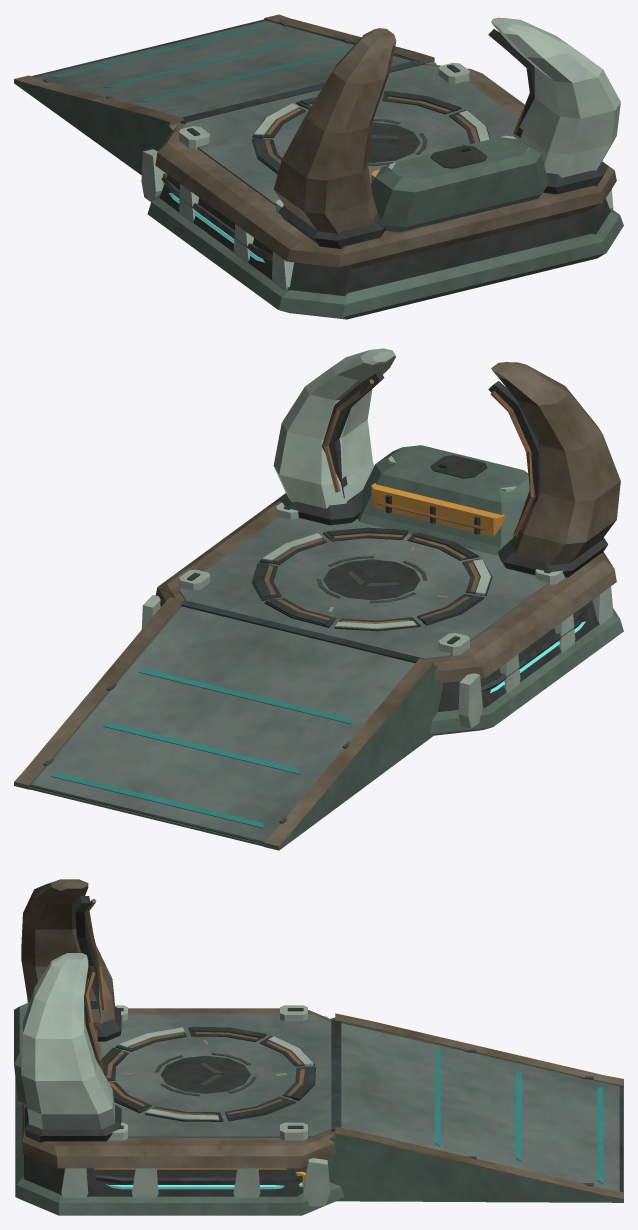
Rendered from NR01_Purifier_LOD3.obj.
3 views of the same model, one above another, from view 1: azimuth 30°, elevation 25°; view 2: azimuth 150°, elevation 25°; view 3: azimuth 270°, elevation 25° (orthographic). The views are drawn at different scales.
Visible parts, largest first — view 1: NR01_Purifier_LOD3; view 2: NR01_Purifier_LOD3; view 3: NR01_Purifier_LOD3.
Part boxes in pixels (box(x1,y1,x2,y2)): NR01_Purifier_LOD3: box(14, 14, 623, 319); NR01_Purifier_LOD3: box(14, 348, 623, 850); NR01_Purifier_LOD3: box(14, 879, 623, 1215).
Size of the model in its own units: 3.13 by 2.15 by 5.16.
